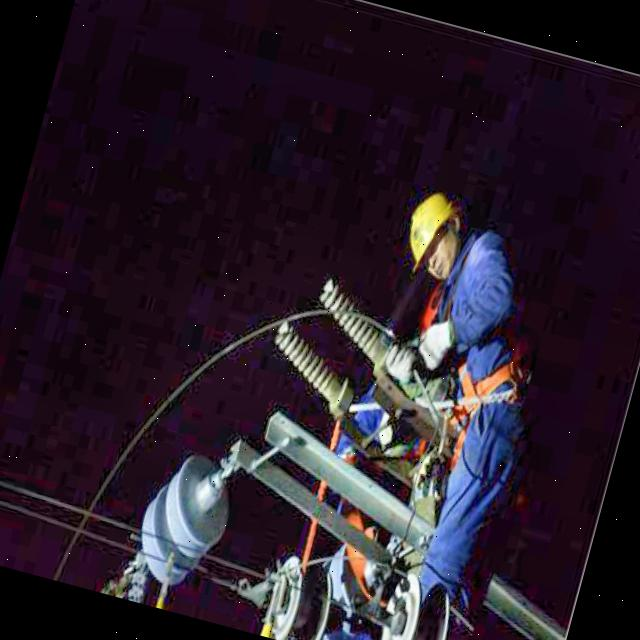helmet: (394, 184, 476, 292)
